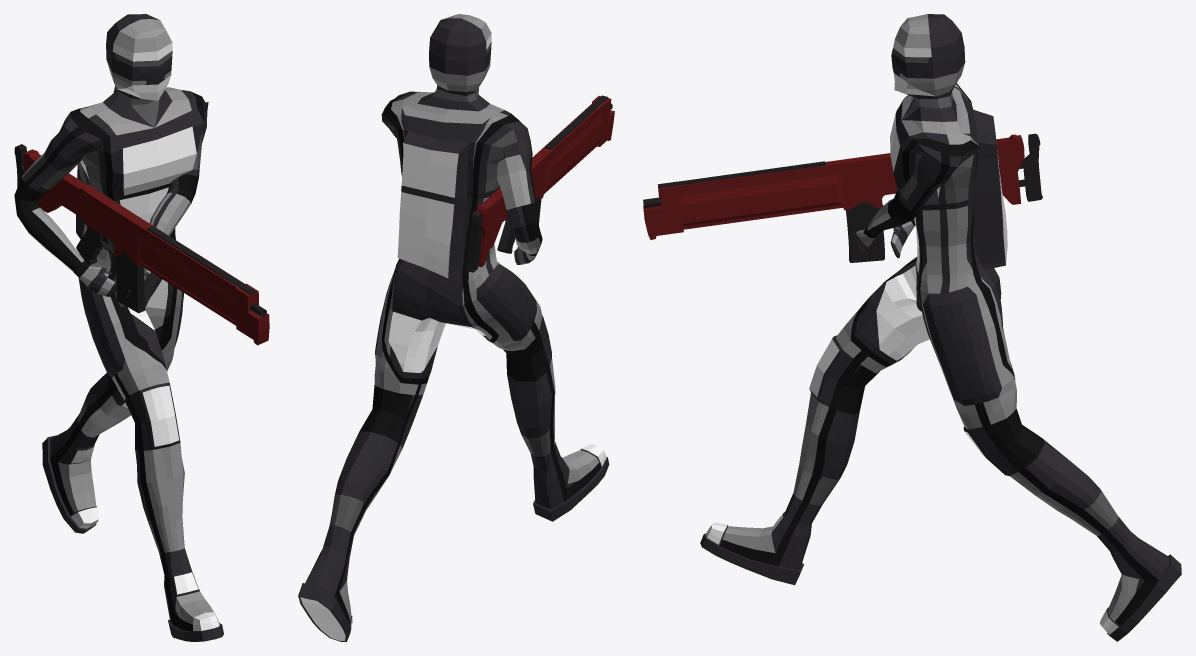
File: SCR3.obj
3 renders of one model, left to right at view 1: azimuth 30°, elevation 25°; view 2: azimuth 150°, elevation 25°; view 3: azimuth 270°, elevation 25°, orthographic. The views are drawn at different scales.
Parts seen in each view (by area): view 1: metarig_object_metarig_mesh, Cube.001; view 2: metarig_object_metarig_mesh, Cube.001; view 3: metarig_object_metarig_mesh, Cube.001.
Boxes of the visible parts, bbox=[...] form: metarig_object_metarig_mesh: bbox=[14, 14, 223, 641]; Cube.001: bbox=[14, 144, 269, 345]; metarig_object_metarig_mesh: bbox=[298, 14, 609, 641]; Cube.001: bbox=[466, 95, 614, 272]; metarig_object_metarig_mesh: bbox=[700, 14, 1181, 641]; Cube.001: bbox=[643, 133, 1042, 262].
Bounding box in the file's own units: 0.4678 × 1.51 × 1.22.
2 materials, 2 textured.
